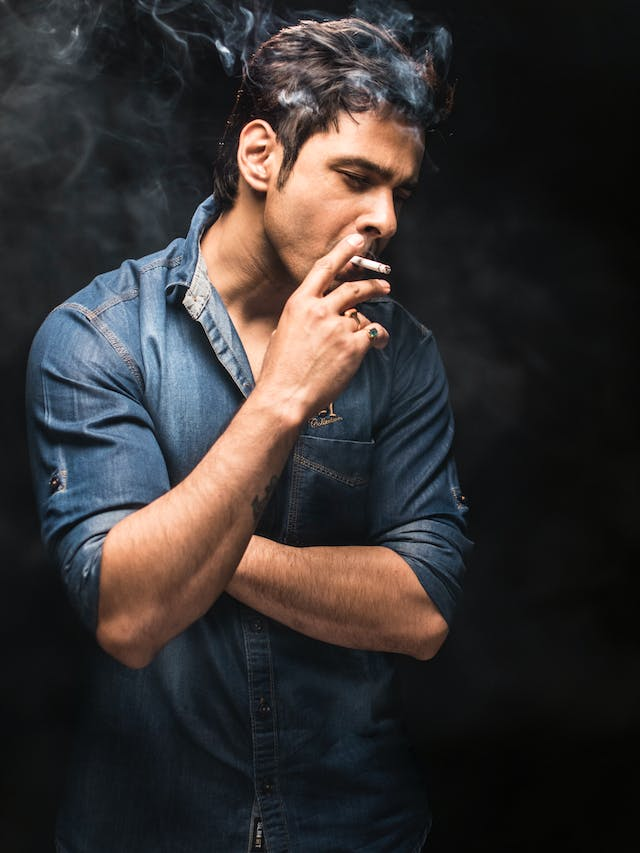Cigarette: (346, 251, 393, 277)
